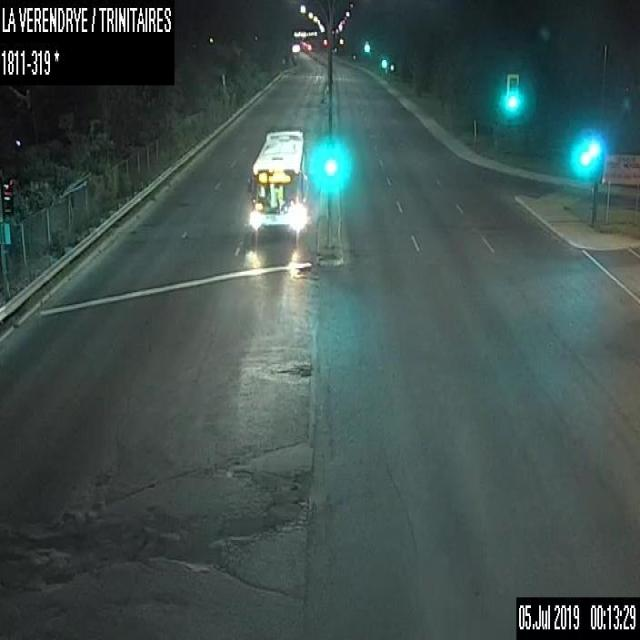bus: (247, 125, 305, 236)
